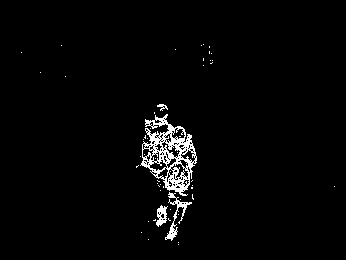person: (137, 102, 174, 223), (161, 125, 197, 240)
